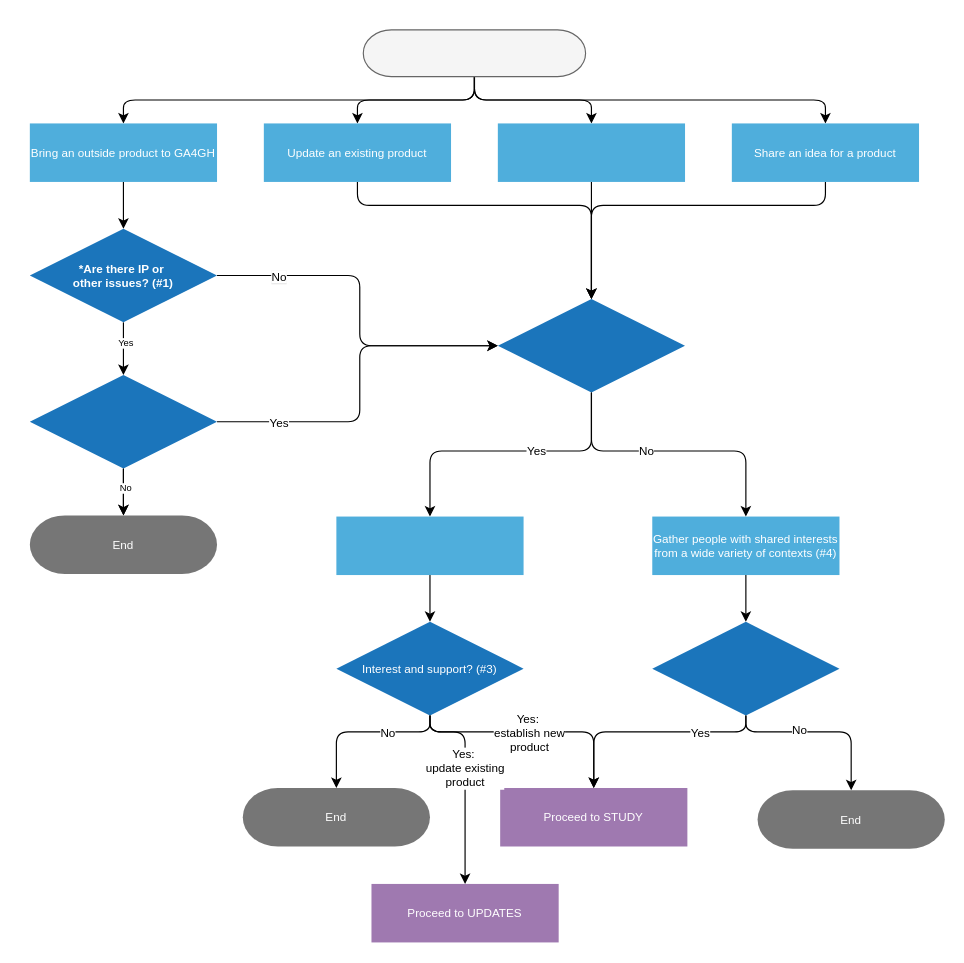
The diagram is 964 pixels wide and 963 high, and some of its shapes have lost their labels. The box of each missing label's shape, as (x1, y1, x2, y2) in pixels:
"I have an idea that GA4GH could address": (362, 29, 586, 77)
Engage with existing group: (336, 516, 523, 574)
Is there already an active group? (#2): (497, 298, 684, 392)
Move ahead? (#5): (652, 621, 839, 715)
Share an issue where a product might help: (497, 123, 684, 181)
Work with GA4GH staff - are there solutions to issues?: (29, 374, 216, 468)
